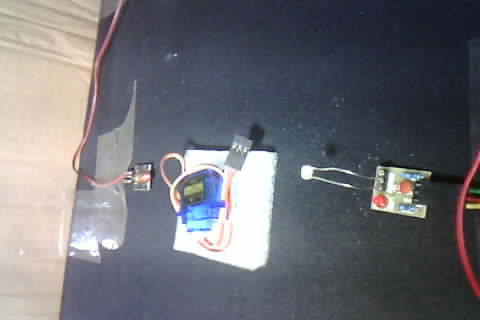motor: (156, 139, 275, 263)
